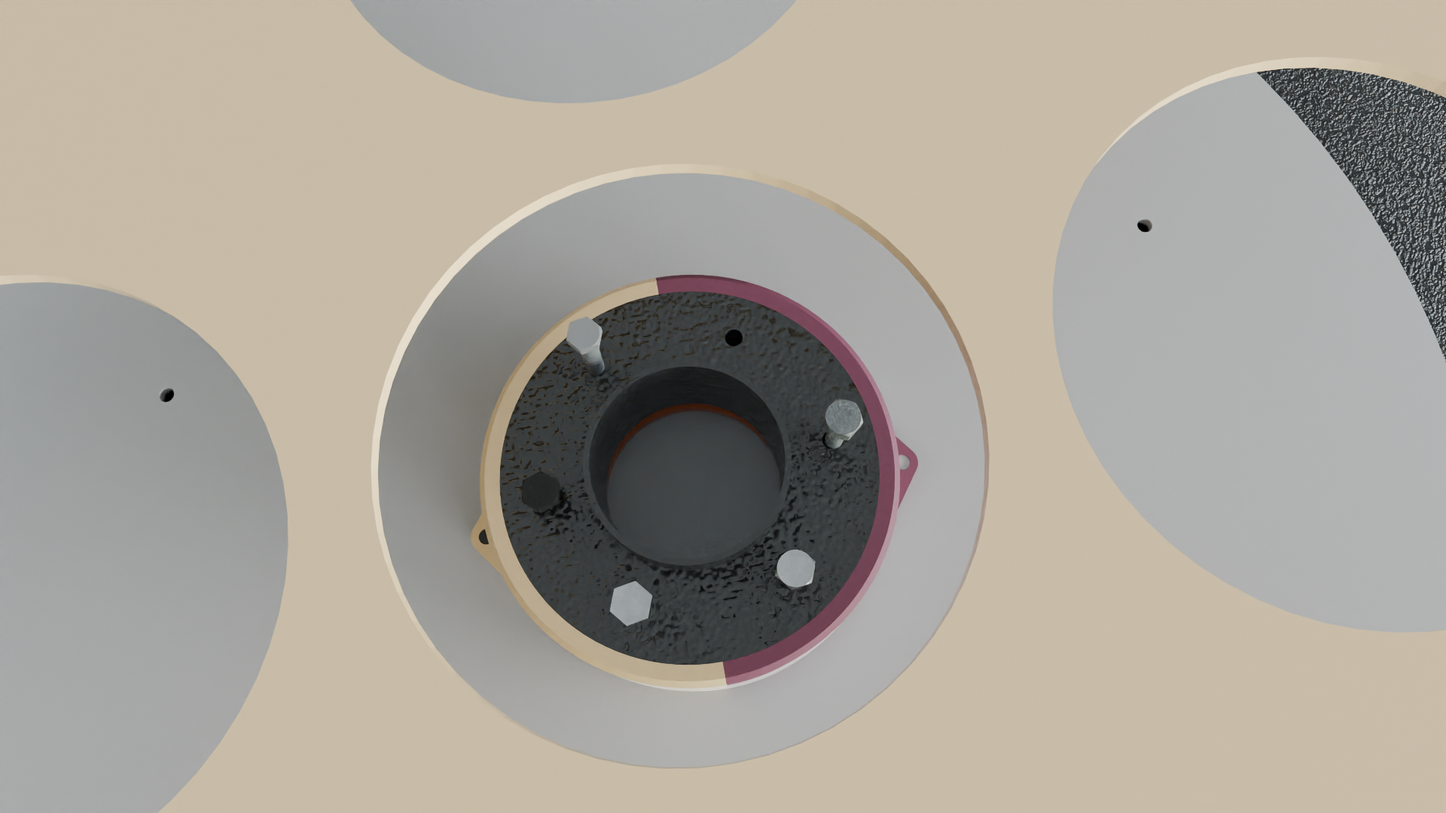bolt: (610, 581, 652, 626), (775, 548, 816, 590), (822, 399, 863, 437), (522, 471, 558, 511), (566, 316, 601, 351)
